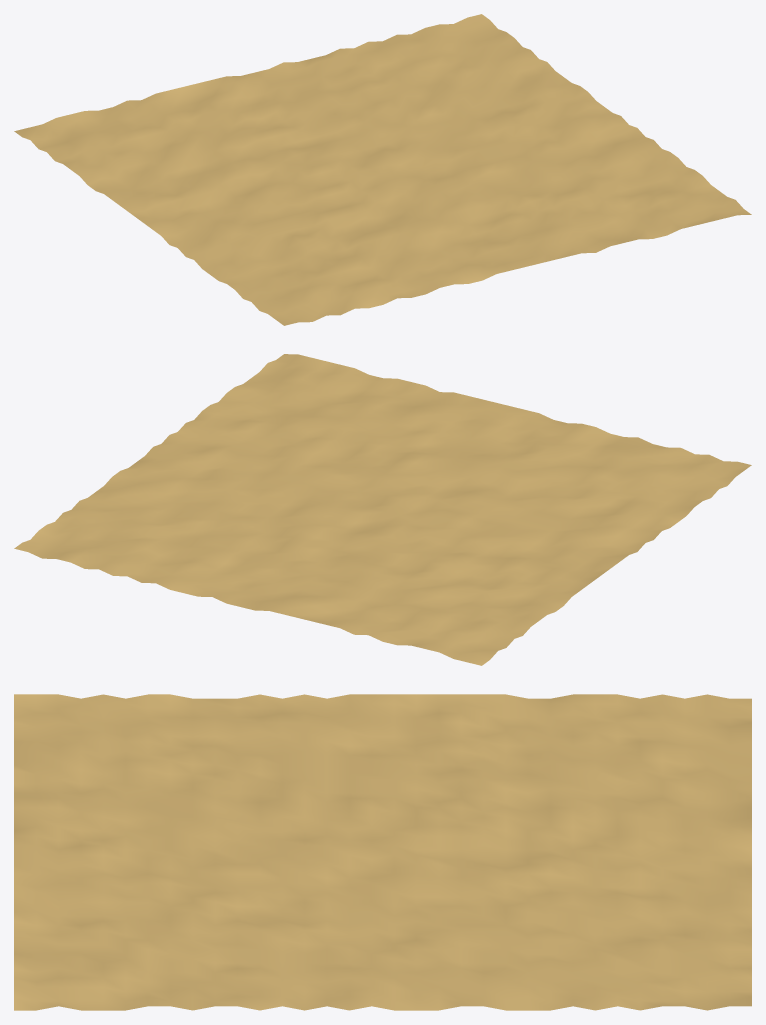
The model's file is sandscene.fbx.
The picture shows the model from 3 angles, top to bottom: view 1: azimuth 30°, elevation 25°; view 2: azimuth 150°, elevation 25°; view 3: azimuth 270°, elevation 25°; orthographic projection. The views are drawn at different scales.
Visible parts, largest first — view 1: Plane; view 2: Plane; view 3: Plane.
Part boxes in pixels (x1,y1,x2,y2): Plane: [14, 14, 751, 325]; Plane: [14, 354, 751, 665]; Plane: [14, 694, 751, 1010].
Bounding box in the file's own units: 1328 × 8.33 × 1328.
